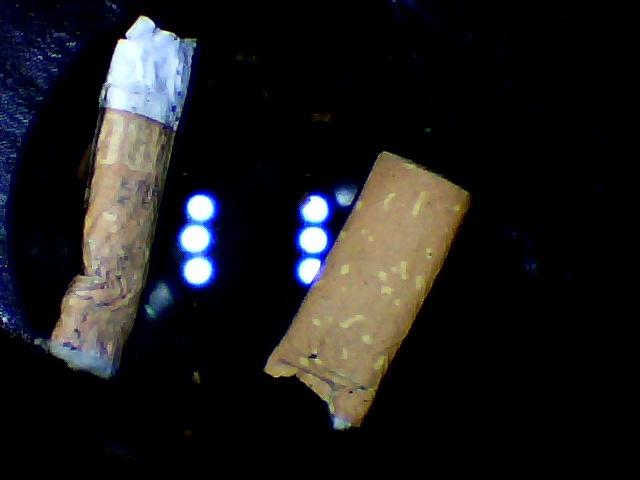megot: (242, 141, 483, 437), (42, 12, 218, 387)
